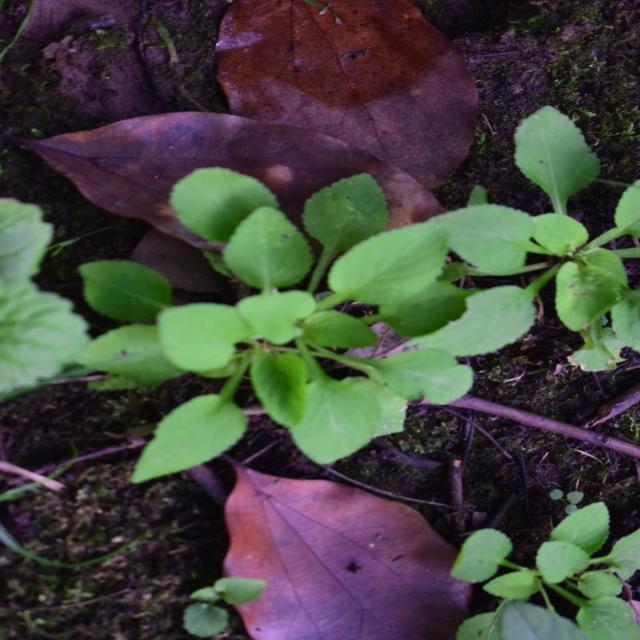Viola: (179, 180, 466, 532)
